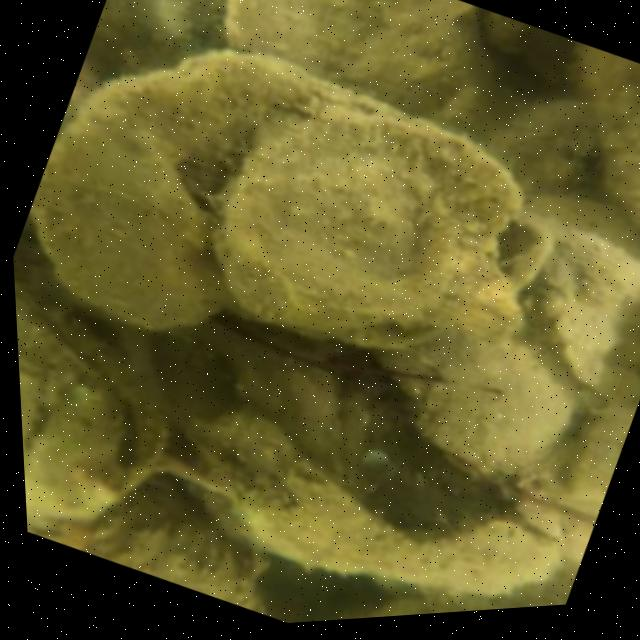Oyster-Closed: (14, 277, 171, 533)
Oyster-Indeterminate: (36, 51, 310, 332), (210, 110, 522, 344), (189, 410, 556, 595), (227, 0, 506, 144), (376, 335, 582, 472), (524, 199, 640, 409), (97, 483, 270, 616), (571, 41, 640, 230), (498, 99, 601, 193)
